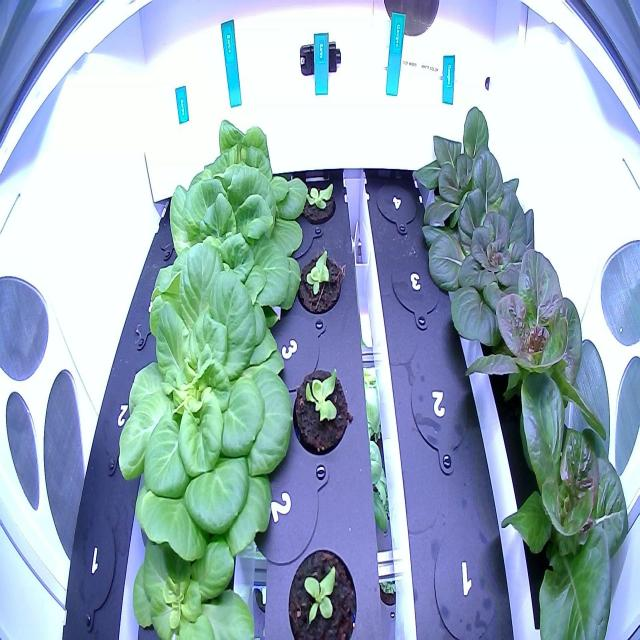empty_pod: (429, 507, 506, 639), (404, 347, 482, 473), (92, 354, 154, 478), (63, 509, 120, 637), (125, 254, 180, 358), (386, 245, 449, 333), (150, 174, 198, 261), (373, 165, 422, 236)
young: (111, 236, 298, 567), (490, 351, 634, 640), (456, 236, 622, 454), (144, 149, 303, 340), (423, 178, 565, 358), (168, 114, 311, 247), (125, 515, 263, 640), (410, 94, 525, 240), (284, 536, 366, 640), (287, 354, 356, 459), (292, 241, 350, 319), (297, 168, 342, 236)
